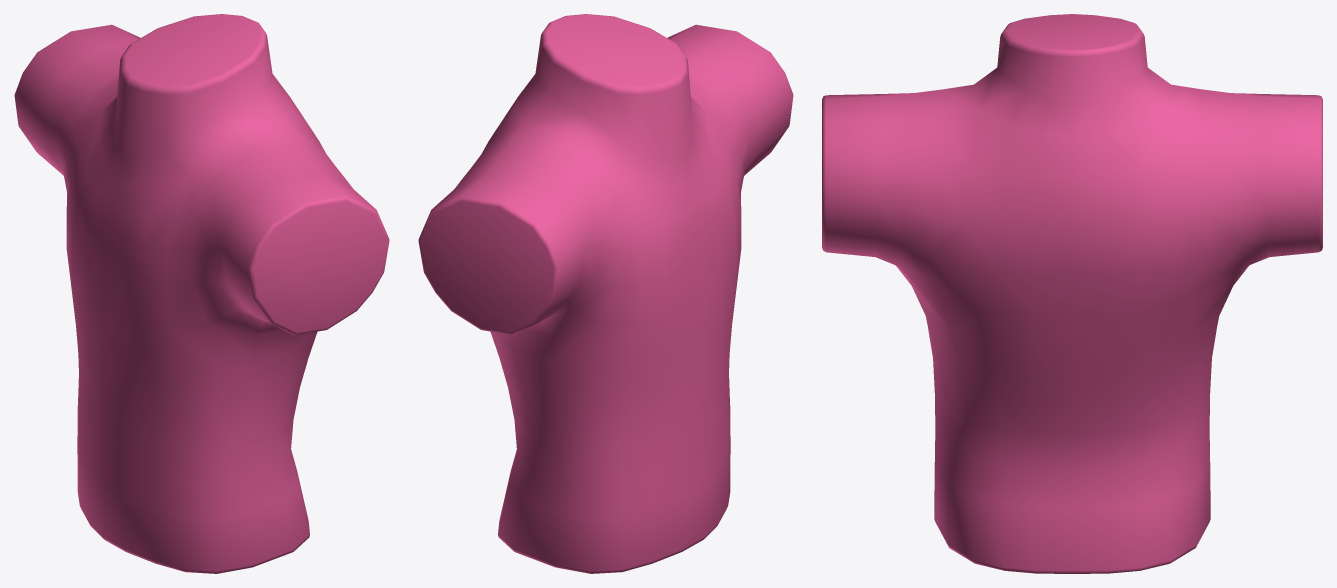
Rendered from TshirtDummy.fbx.
3 views of the same model, side by side, from view 1: azimuth 30°, elevation 25°; view 2: azimuth 150°, elevation 25°; view 3: azimuth 270°, elevation 25° (orthographic). The views are drawn at different scales.
Parts seen in each view (by area): view 1: TshirtDummy; view 2: TshirtDummy; view 3: TshirtDummy.
Boxes of the visible parts, x1,y1,x2,y2 form: TshirtDummy: (14, 14, 389, 573); TshirtDummy: (418, 14, 793, 573); TshirtDummy: (822, 14, 1322, 573).
Bounding box in the file's own units: 210 × 481 × 427.
